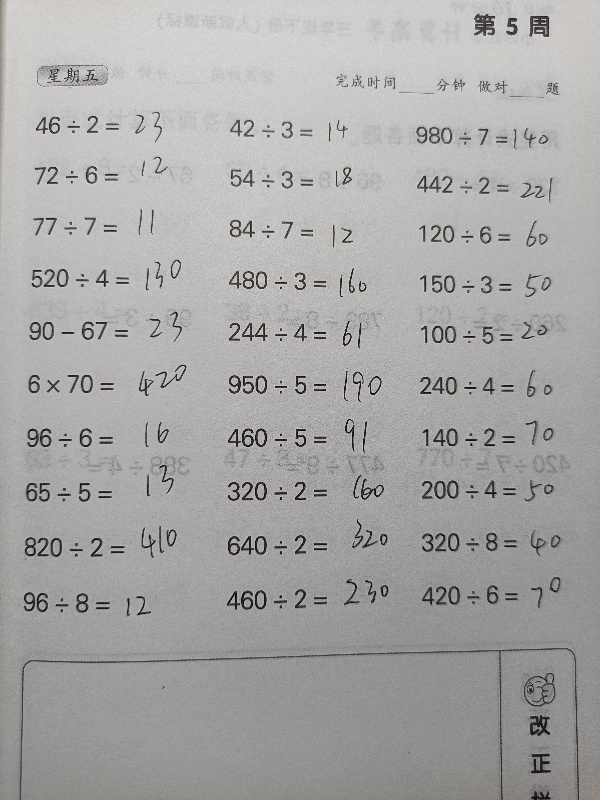equation: (219, 261, 399, 306), (411, 364, 591, 408), (412, 521, 592, 561), (413, 473, 593, 510), (14, 584, 194, 620), (15, 529, 195, 565), (411, 315, 591, 351), (407, 119, 587, 155), (217, 581, 397, 616), (412, 577, 592, 612), (218, 527, 398, 562), (17, 475, 197, 510), (219, 474, 399, 509), (19, 420, 199, 455), (220, 367, 400, 402), (22, 260, 202, 295), (219, 421, 399, 455), (20, 366, 200, 400), (221, 315, 401, 349), (21, 313, 201, 347), (412, 268, 592, 302), (410, 217, 590, 251), (221, 212, 401, 246), (221, 162, 401, 196), (27, 158, 207, 192), (221, 112, 401, 146), (414, 421, 594, 454), (26, 210, 206, 243), (408, 168, 588, 201), (26, 108, 206, 141)
